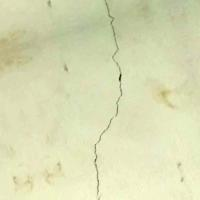crack: (73, 0, 135, 199)
